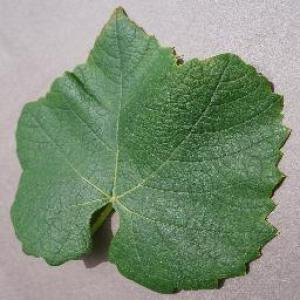Folha: (10, 5, 290, 294)
